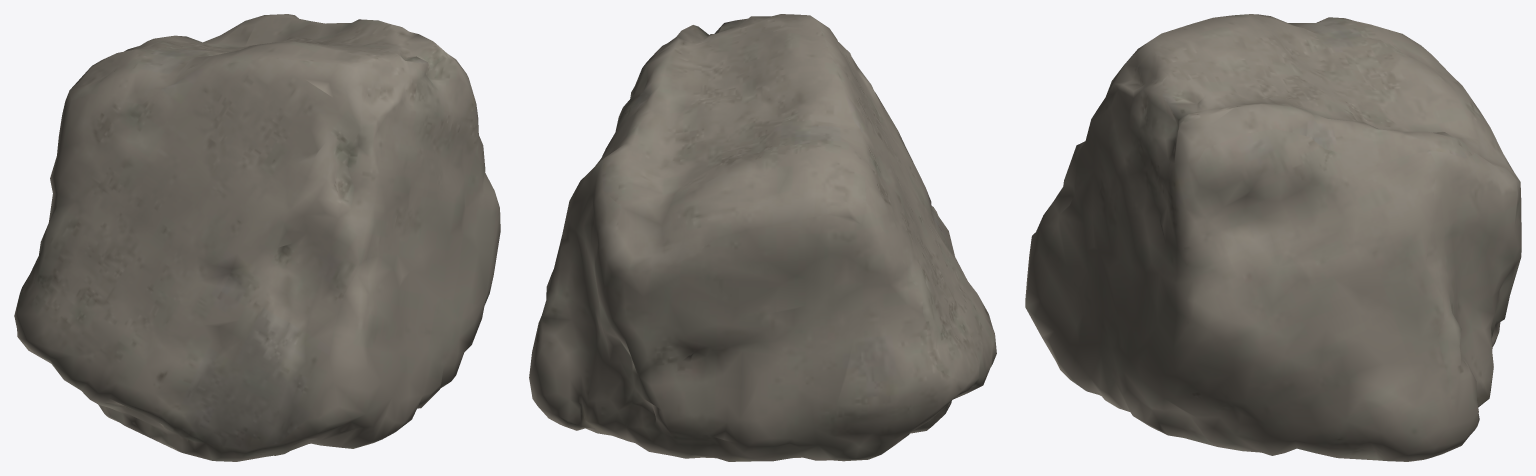
The model's file is moon_rock_2.glb.
The picture shows the model from 3 angles, left to right: view 1: azimuth 30°, elevation 25°; view 2: azimuth 150°, elevation 25°; view 3: azimuth 270°, elevation 25°; orthographic projection. The views are drawn at different scales.
Visible parts, largest first — view 1: moon_rock_02_LOD0; view 2: moon_rock_02_LOD0; view 3: moon_rock_02_LOD0.
Boxes of the visible parts, x1,y1,x2,y2 form: moon_rock_02_LOD0: [14, 14, 500, 461]; moon_rock_02_LOD0: [529, 14, 996, 461]; moon_rock_02_LOD0: [1025, 14, 1521, 461].
Bounding box in the file's own units: 0.2465 × 0.2019 × 0.2513.
Materials: 1 (1 with a texture image).
